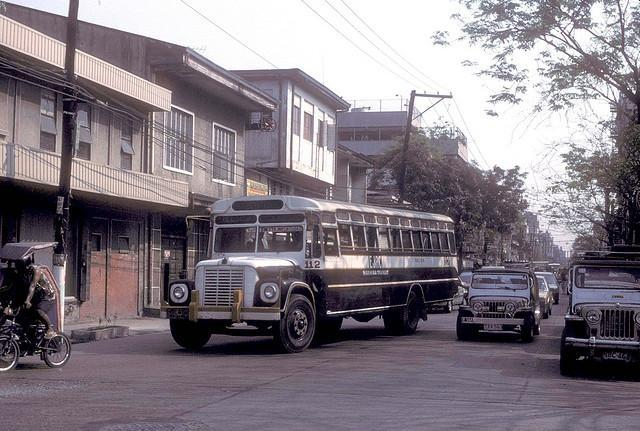bicycle: (0, 298, 71, 372)
bus: (170, 200, 457, 352)
car: (559, 262, 638, 376), (454, 266, 542, 342), (426, 276, 468, 313), (536, 276, 553, 318), (543, 272, 560, 303), (505, 258, 533, 268), (460, 272, 473, 284)
